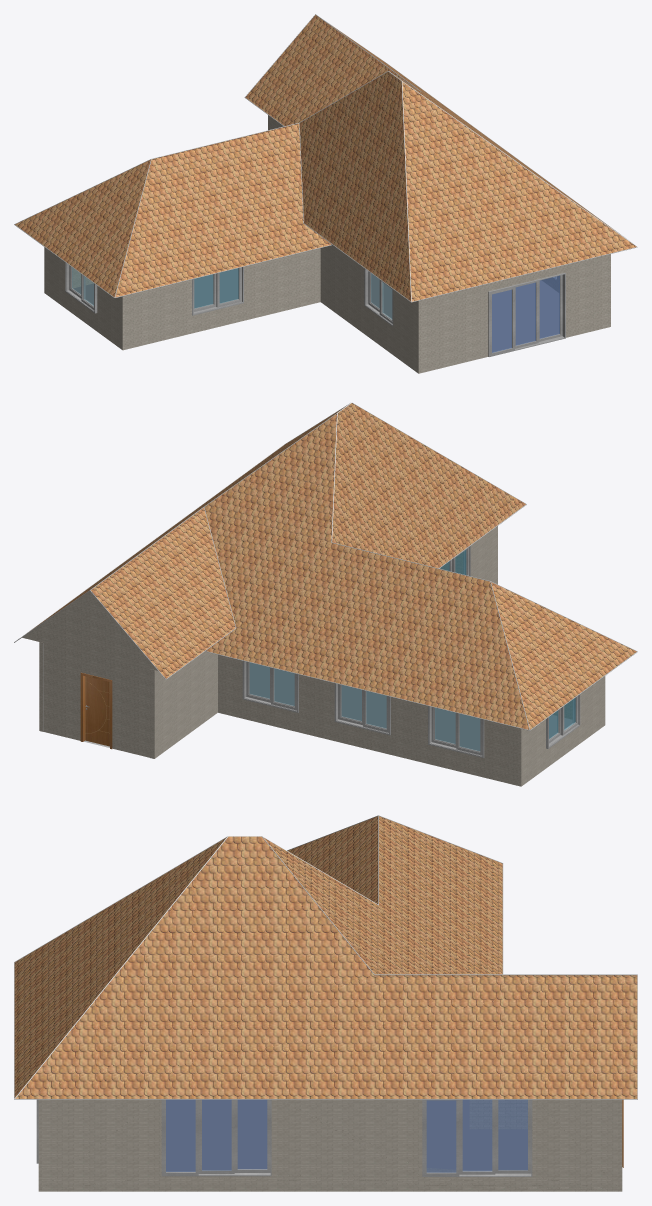
File: telhado46N.glb
3 renders of one model, top to bottom at view 1: azimuth 30°, elevation 25°; view 2: azimuth 150°, elevation 25°; view 3: azimuth 270°, elevation 25°, orthographic. The views are drawn at different scales.
Parts seen in each view (by area): view 1: root; view 2: root; view 3: root, Pipe#8.
Part boxes in pixels (x1,y1,x2,y2): root: (15, 15, 636, 373); root: (22, 403, 636, 786); root: (14, 816, 637, 1191); Pipe#8: (14, 1099, 637, 1099).
Bounding box in the file's own units: 15.09 × 7.51 × 15.42.
Materials: 16 (7 with a texture image).
